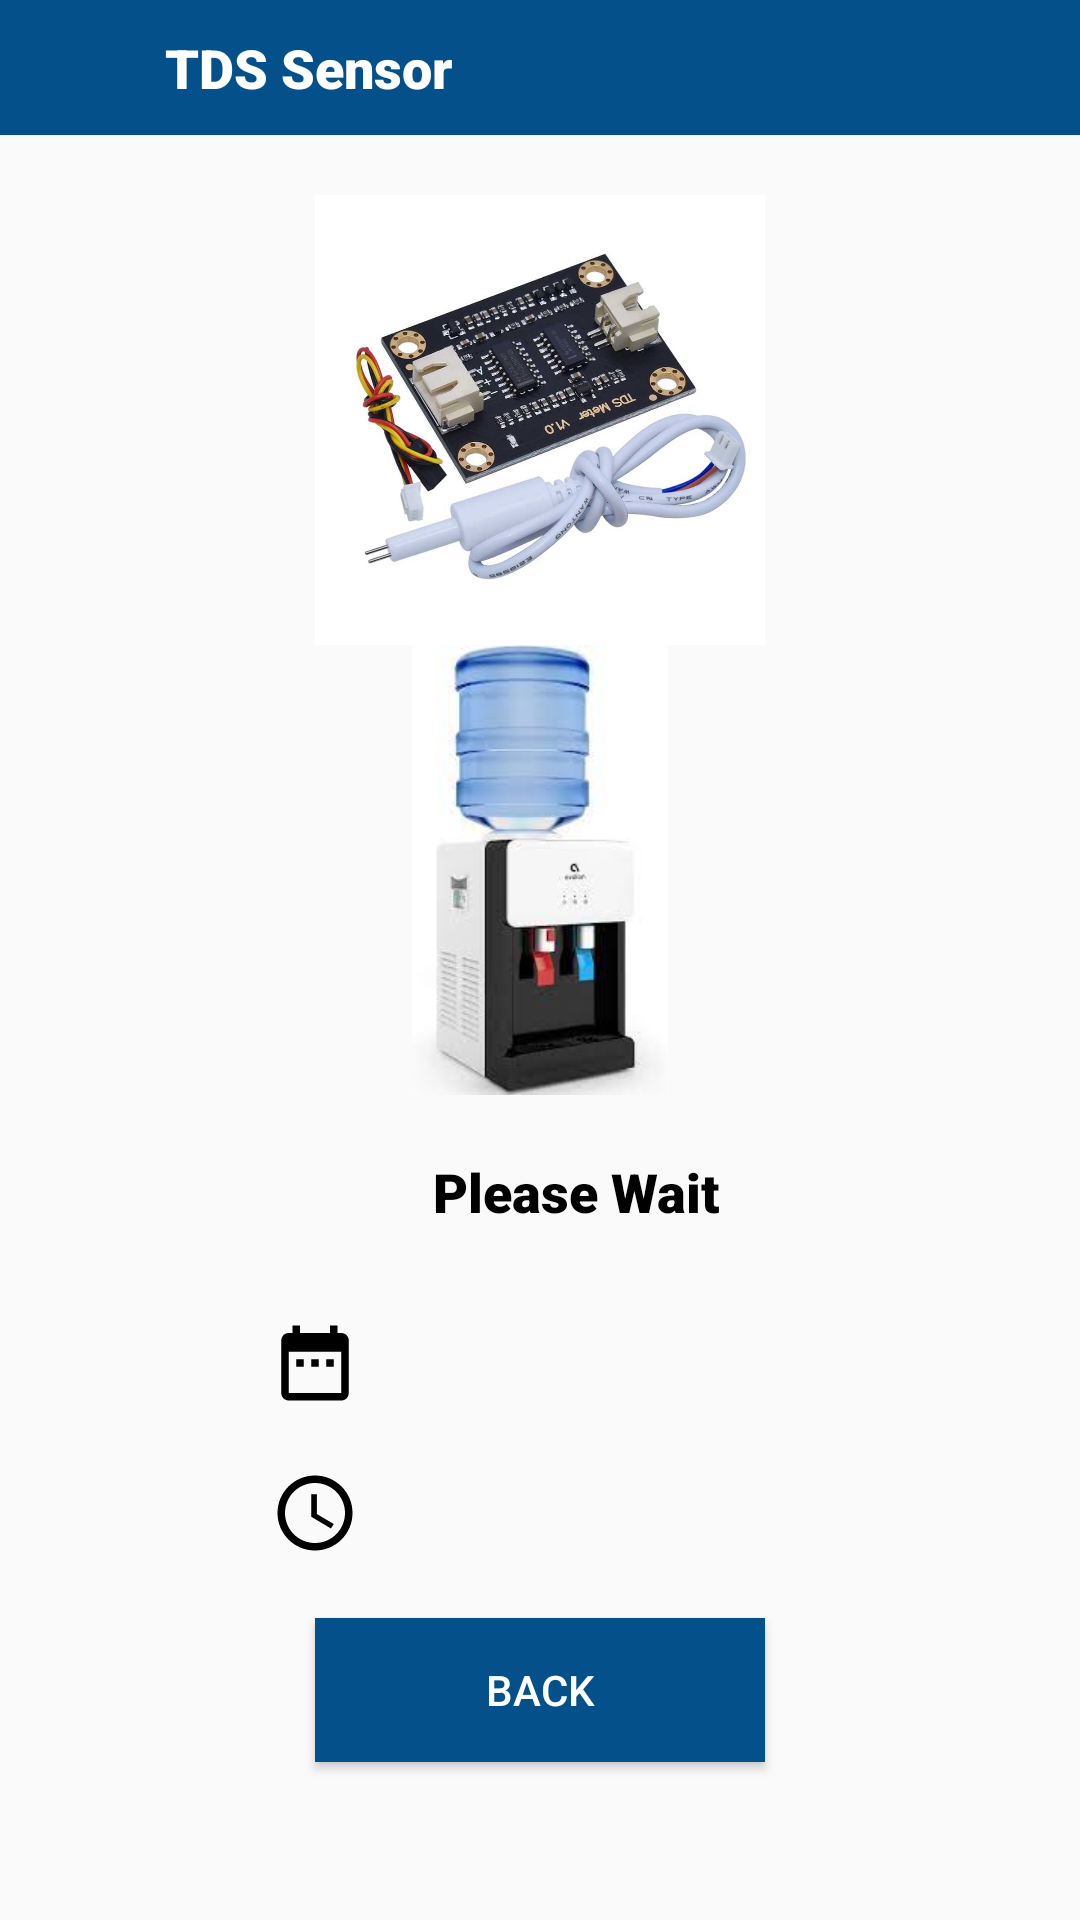

Icons on this 1080x1920 Android screen, each with the point to tap as [x,y]:
date: [315,1363]
time: [315,1513]
